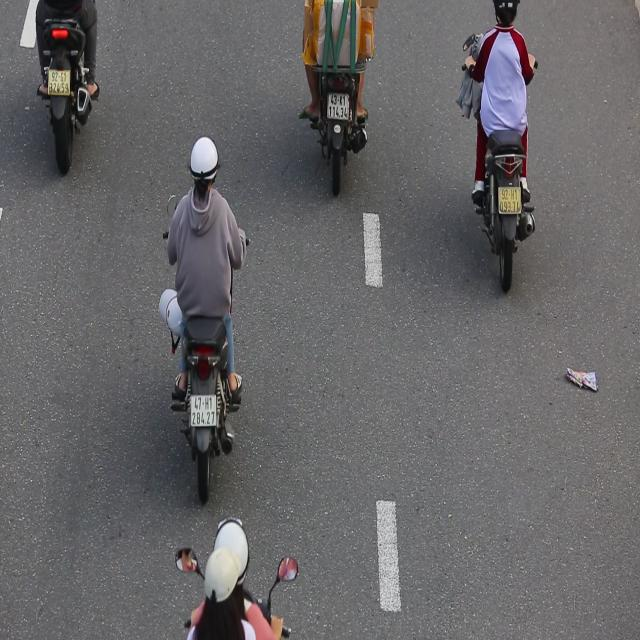motorbike: (156, 136, 248, 502)
